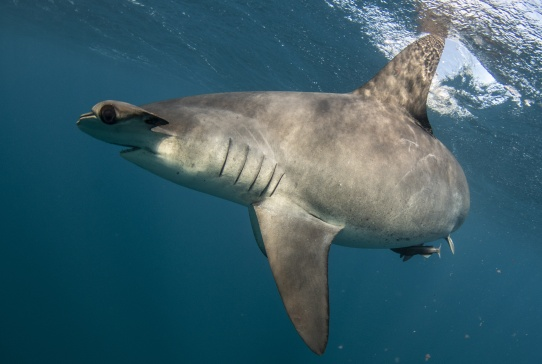Hammer: (41, 5, 496, 363)
